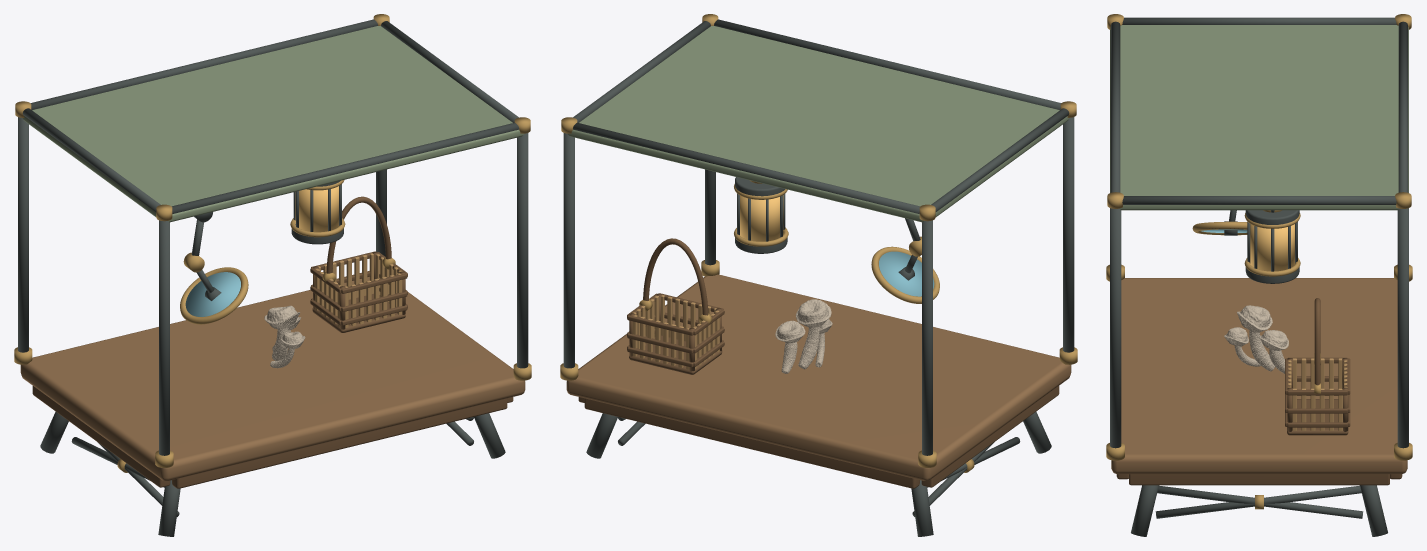
File: 3dcodebench_Mushroom_seed0_L6_Q3__gpt6_luna.glb
3 renders of one model, left to right at view 1: azimuth 30°, elevation 25°; view 2: azimuth 150°, elevation 25°; view 3: azimuth 270°, elevation 25°, orthographic.
Visible parts, largest first — view 1: object; view 2: object; view 3: object.
Boxes of the visible parts, x1,y1,x2,y2 form: object: [14, 14, 531, 536]; object: [560, 14, 1077, 536]; object: [1106, 14, 1412, 536].
Size of the model in its own units: 4.01 by 3.5 by 2.79.
